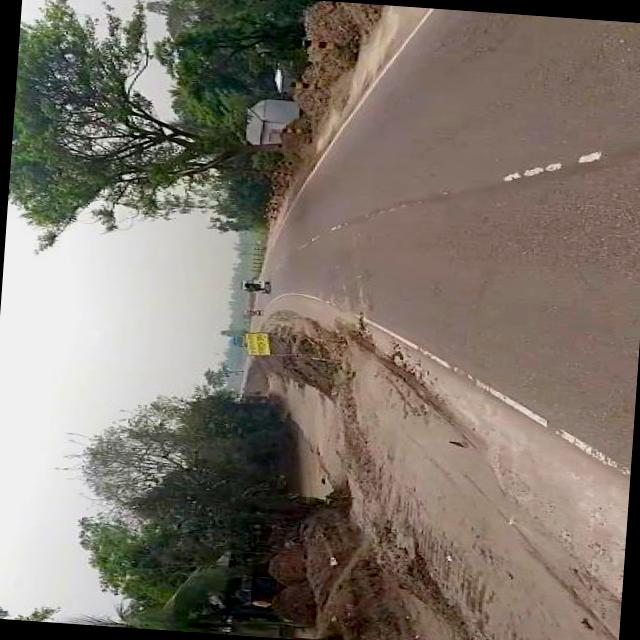bus: (238, 278, 269, 296)
motorcycle: (244, 309, 262, 317)
truck: (231, 334, 242, 346)
